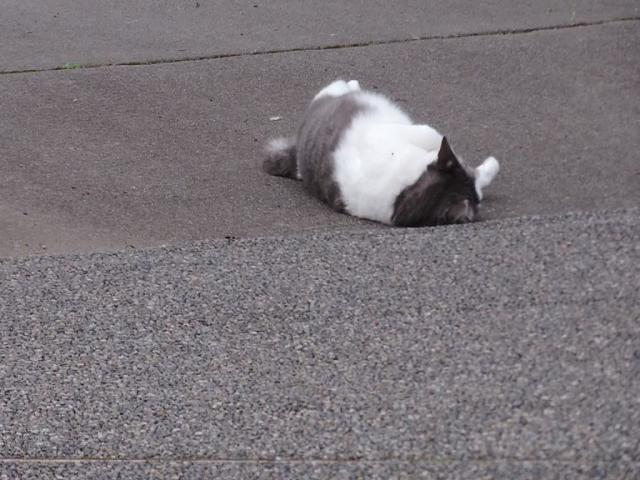Cat: (262, 80, 499, 229)
